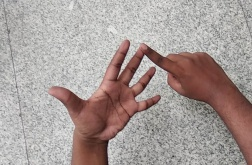u: (49, 37, 184, 141)
